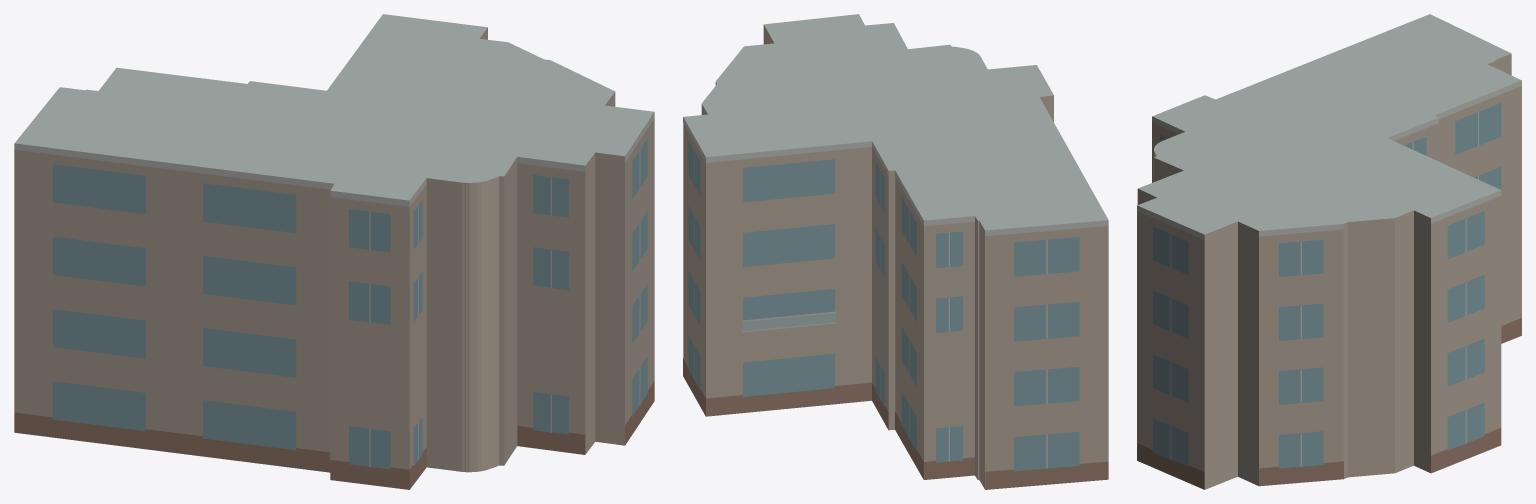
The model's file is survey-upis-32990796.glb.
3 renders of one model, left to right at view 1: azimuth 30°, elevation 25°; view 2: azimuth 150°, elevation 25°; view 3: azimuth 270°, elevation 25°, orthographic. The views are drawn at different scales.
Visible parts, largest first — view 1: survey-upis-32990796.tmp; view 2: survey-upis-32990796.tmp; view 3: survey-upis-32990796.tmp.
Boxes of the visible parts, x1=… form: survey-upis-32990796.tmp: x1=14, y1=14, x2=654, y2=489; survey-upis-32990796.tmp: x1=683, y1=14, x2=1108, y2=489; survey-upis-32990796.tmp: x1=1137, y1=14, x2=1521, y2=489.
Bounding box in the file's own units: 20.58 × 11.1 × 15.17.
